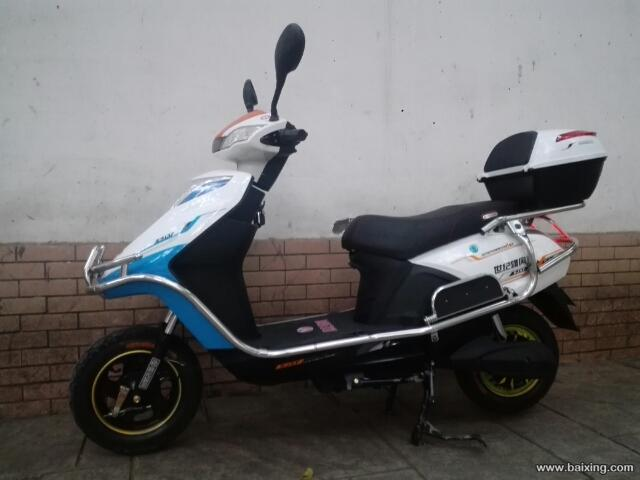电动车: (63, 23, 616, 453)
